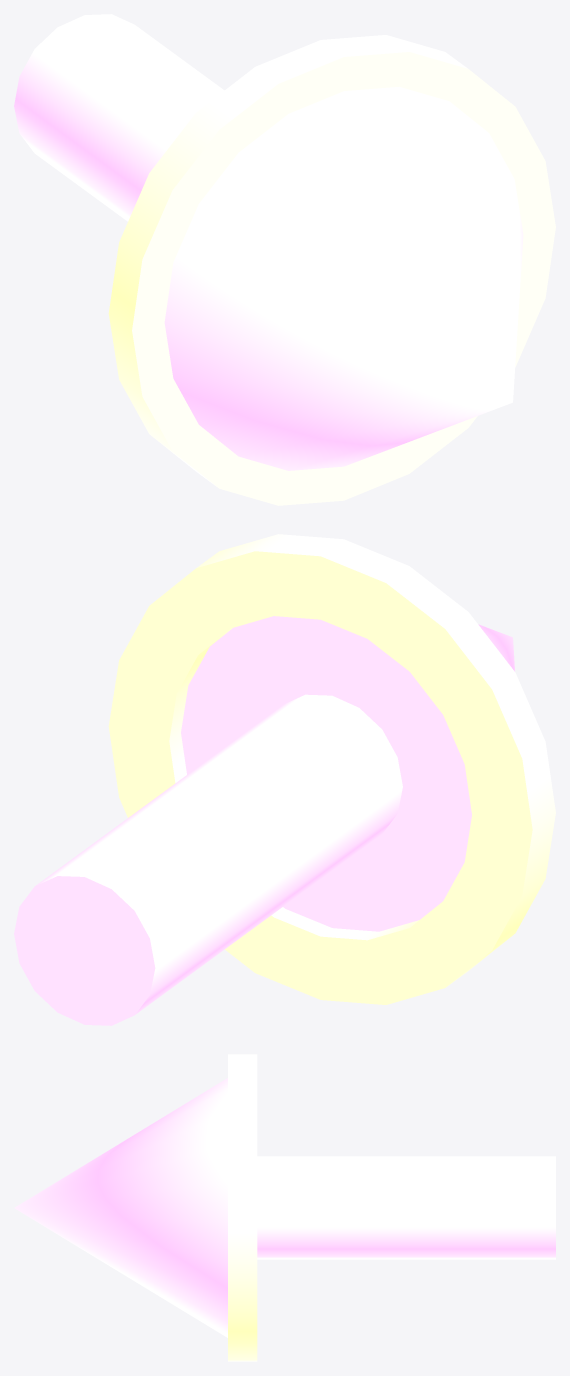
The model's file is citadel_fx_arrow.glb.
3 views of the same model, one above another, from view 1: azimuth 30°, elevation 25°; view 2: azimuth 150°, elevation 25°; view 3: azimuth 270°, elevation 25° (orthographic). The views are drawn at different scales.
Parts seen in each view (by area): view 1: arrow_body, arrow_rim; view 2: arrow_body, arrow_rim; view 3: arrow_body, arrow_rim.
Part boxes in pixels (x1,y1,x2,y2): arrow_body: [14, 14, 523, 470]; arrow_rim: [108, 35, 555, 505]; arrow_body: [14, 616, 514, 1025]; arrow_rim: [108, 534, 555, 1004]; arrow_body: [14, 1078, 555, 1337]; arrow_rim: [228, 1054, 257, 1361].
Bounding box in the file's own units: 0.84 × 0.84 × 1.47.
